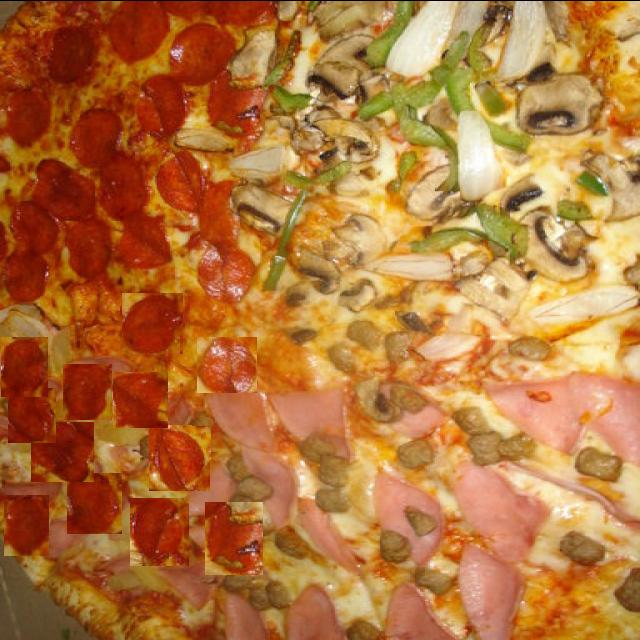pepperoni: (205, 501, 263, 574), (169, 556, 237, 618), (150, 424, 212, 490), (130, 497, 189, 565), (31, 421, 94, 481), (122, 292, 183, 353), (197, 336, 257, 392), (67, 472, 122, 533), (93, 422, 146, 484), (42, 558, 96, 616), (113, 371, 168, 427), (192, 392, 236, 458), (1, 336, 48, 396), (4, 492, 49, 554), (63, 363, 112, 419), (8, 387, 56, 442), (208, 614, 276, 638), (152, 622, 213, 640)
pizza: (0, 0, 640, 640)
